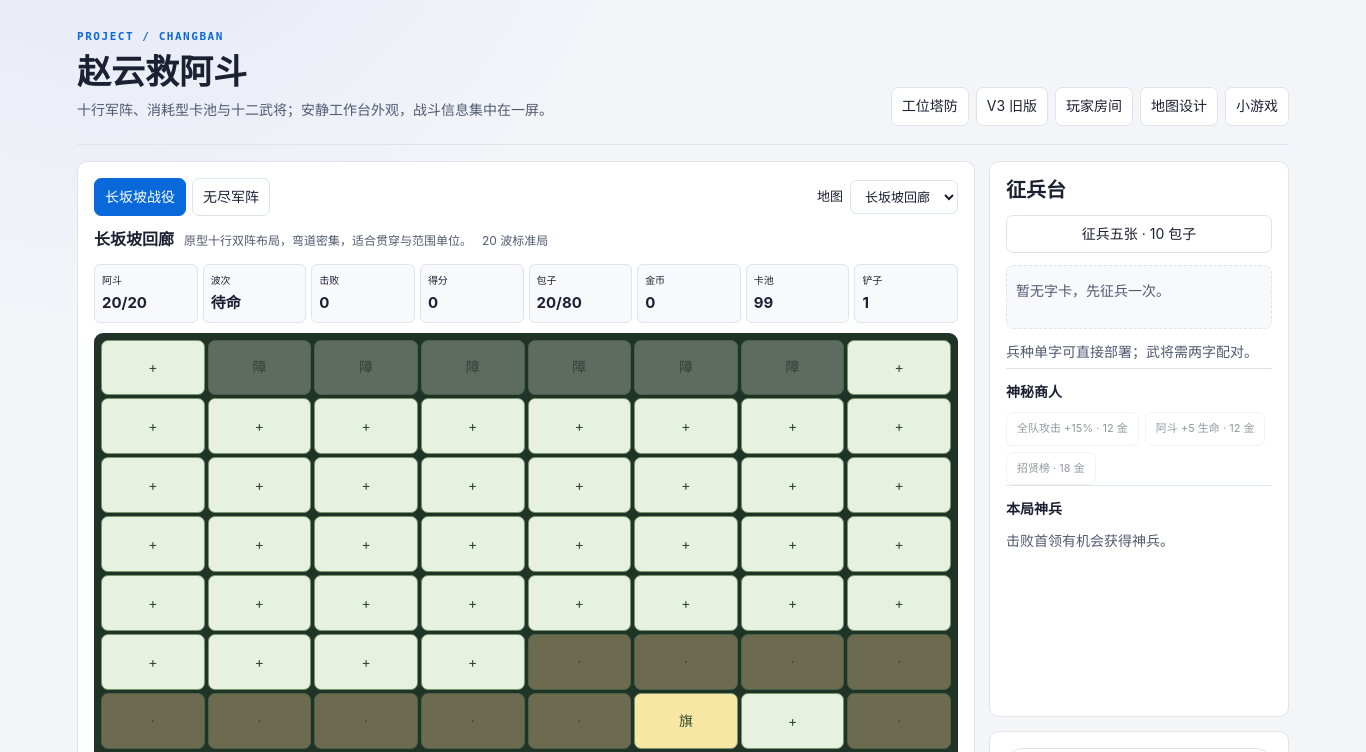
Test case: WordFrontV4Page › keeps the run local when an old API does not return the V4 contract
Click the button "征兵五张 · 10 包子": (1139, 234) [1006,215,1272,253]
(page scrolled)
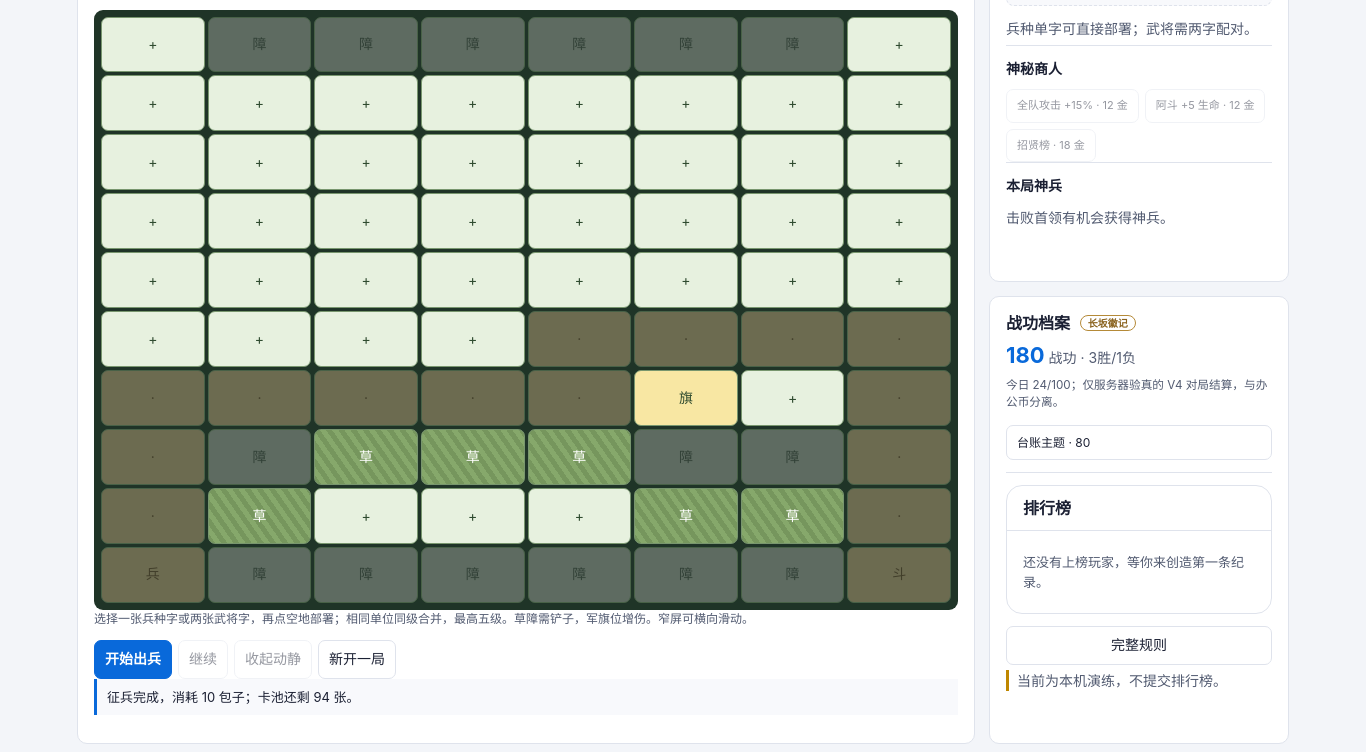
Now the text "当前为本机演练，不提交排行榜。" is shown, box [1006,670,1272,691]
